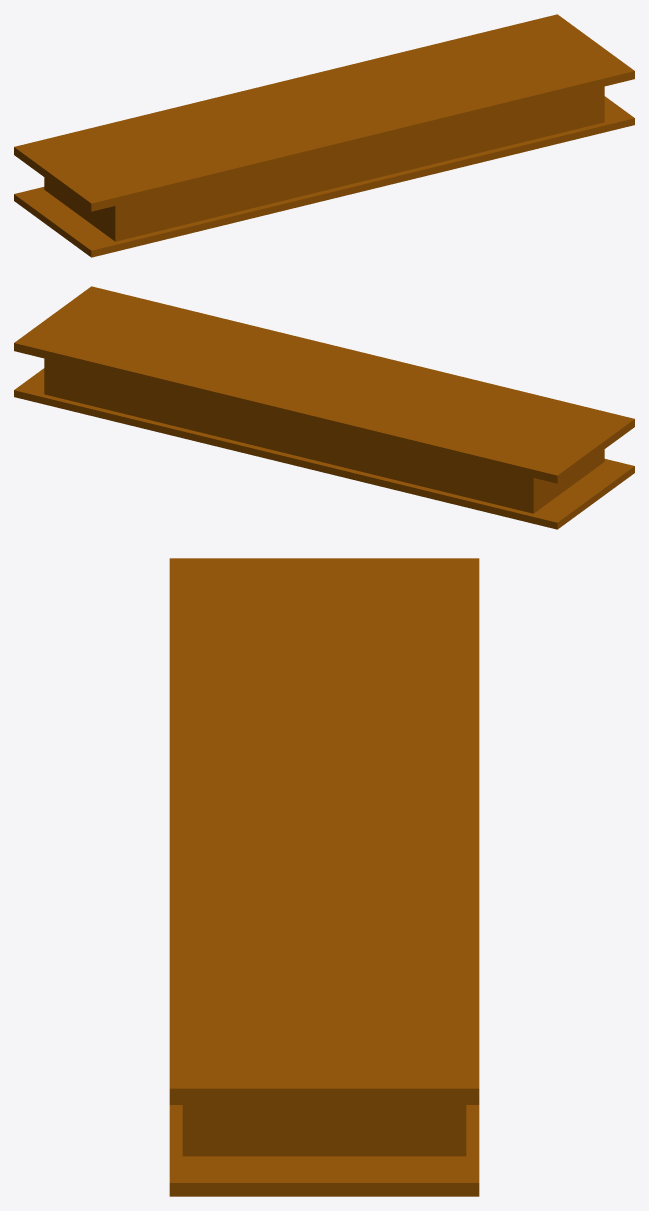
File: Assembly_Station.fbx
The picture shows the model from 3 angles, top to bottom: view 1: azimuth 30°, elevation 25°; view 2: azimuth 150°, elevation 25°; view 3: azimuth 270°, elevation 25°; orthographic projection. The views are drawn at different scales.
Parts seen in each view (by area): view 1: Assembly; view 2: Assembly; view 3: Assembly.
Boxes of the visible parts, x1=… form: Assembly: x1=14, y1=14, x2=634, y2=257; Assembly: x1=14, y1=286, x2=634, y2=529; Assembly: x1=169, y1=558, x2=479, y2=1196.
Size of the model in its own units: 16.2 by 1.54 by 4.
